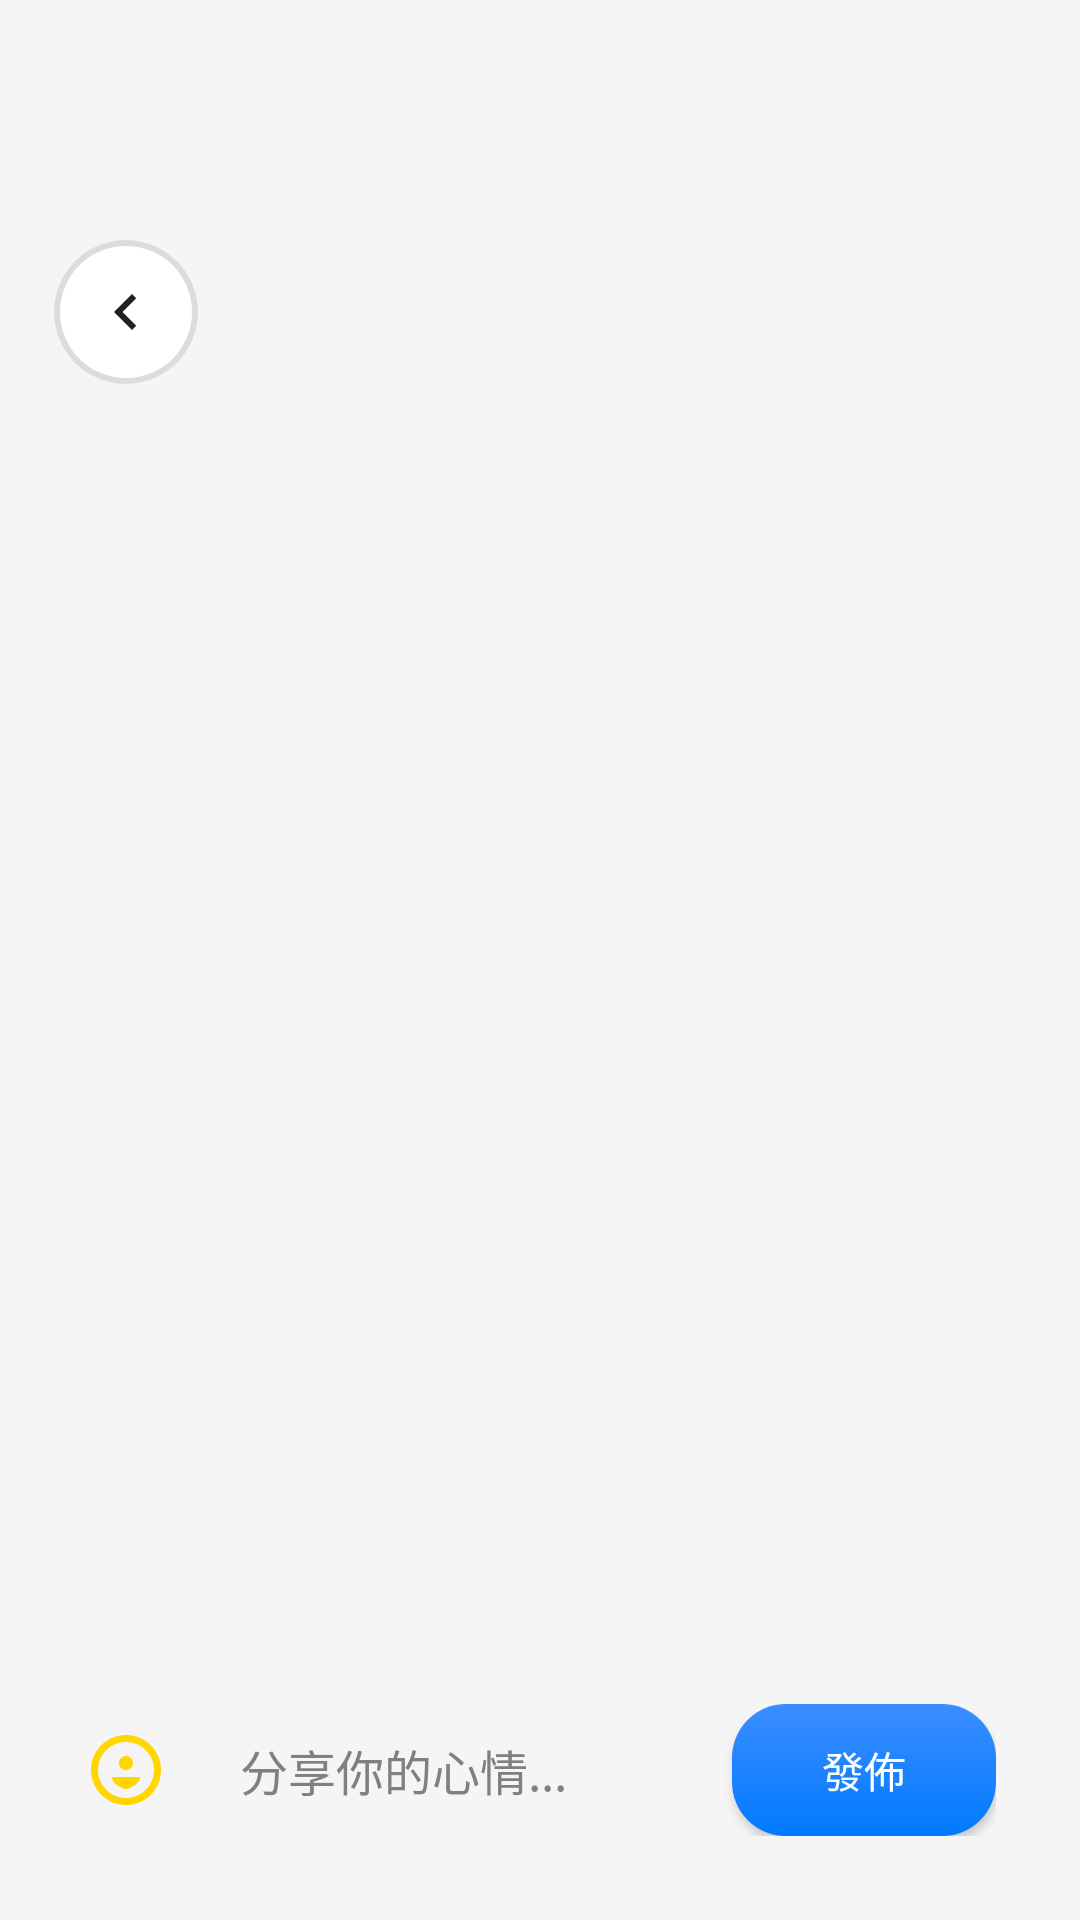

Locate icon controls on the screen. Image size 1080px x 1920px, boxes as (x1, y1, x2, y2).
返回: (54, 240, 198, 384)
